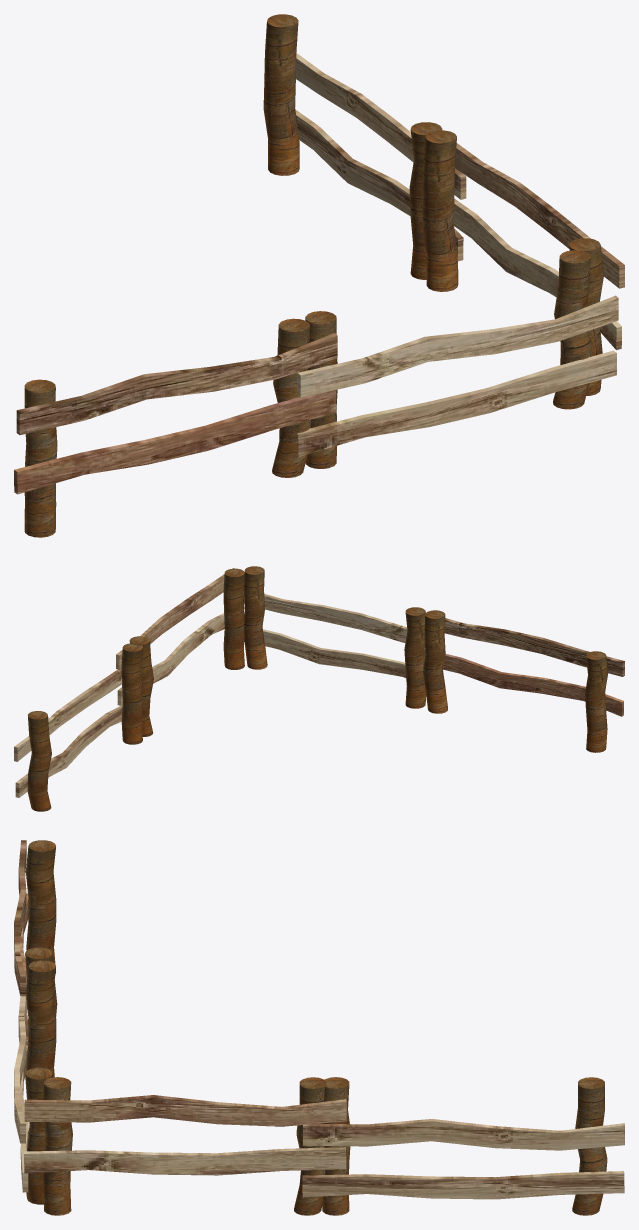
The model's file is Rangé 4 barrières coins (2).FBX.
3 views of the same model, one above another, from view 1: azimuth 30°, elevation 25°; view 2: azimuth 150°, elevation 25°; view 3: azimuth 270°, elevation 25° (orthographic). The views are drawn at different scales.
Visible parts, largest first — view 1: Barrières coins; view 2: Barrières coins; view 3: Barrières coins.
Part boxes in pixels (x1,y1,x2,y2): Barrières coins: [14, 14, 624, 537]; Barrières coins: [14, 566, 624, 811]; Barrières coins: [14, 840, 624, 1215].
Size of the model in its own units: 265 by 59.94 by 260.
